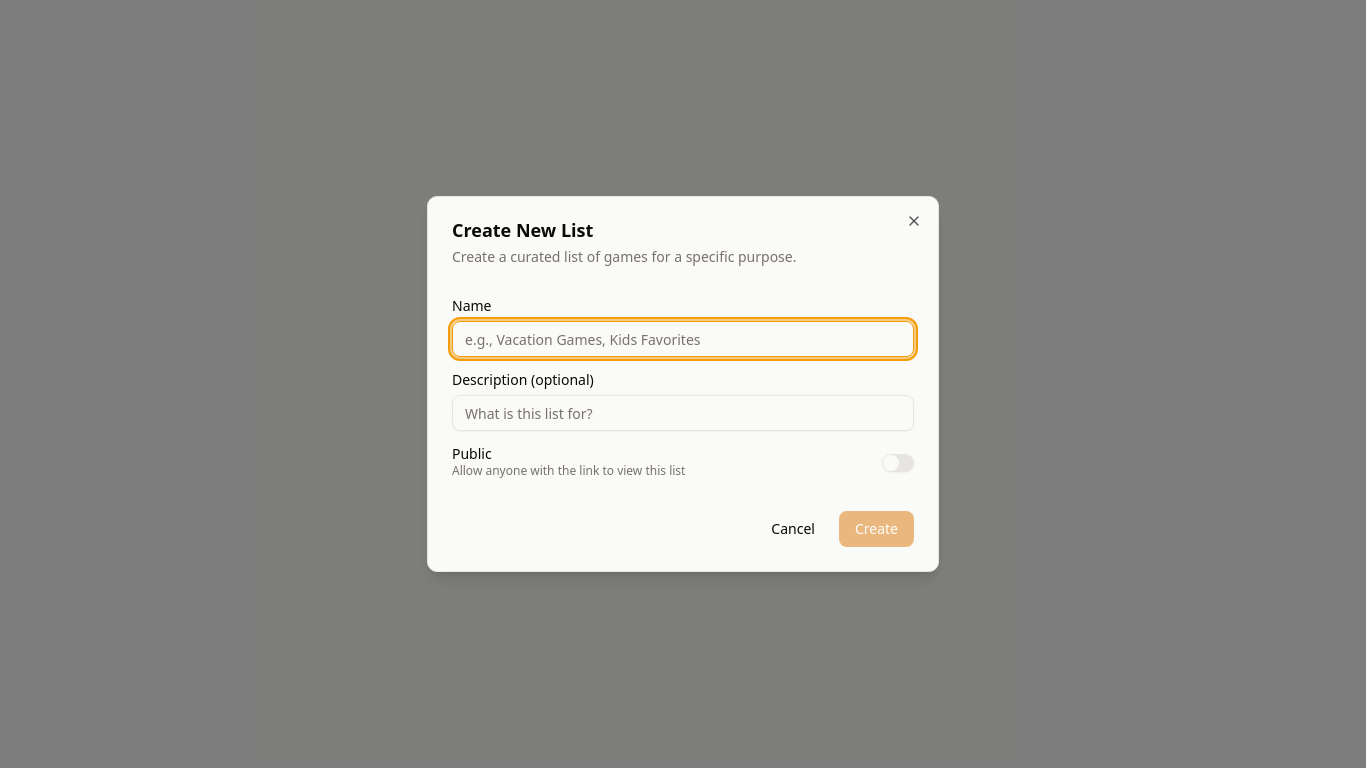
ListDialogs › CreateListDialog › should enable Create button when name is provided
Type "My List" into the field labelled "Name".
click(683, 339); type("My List")  # box [452, 321, 914, 357]
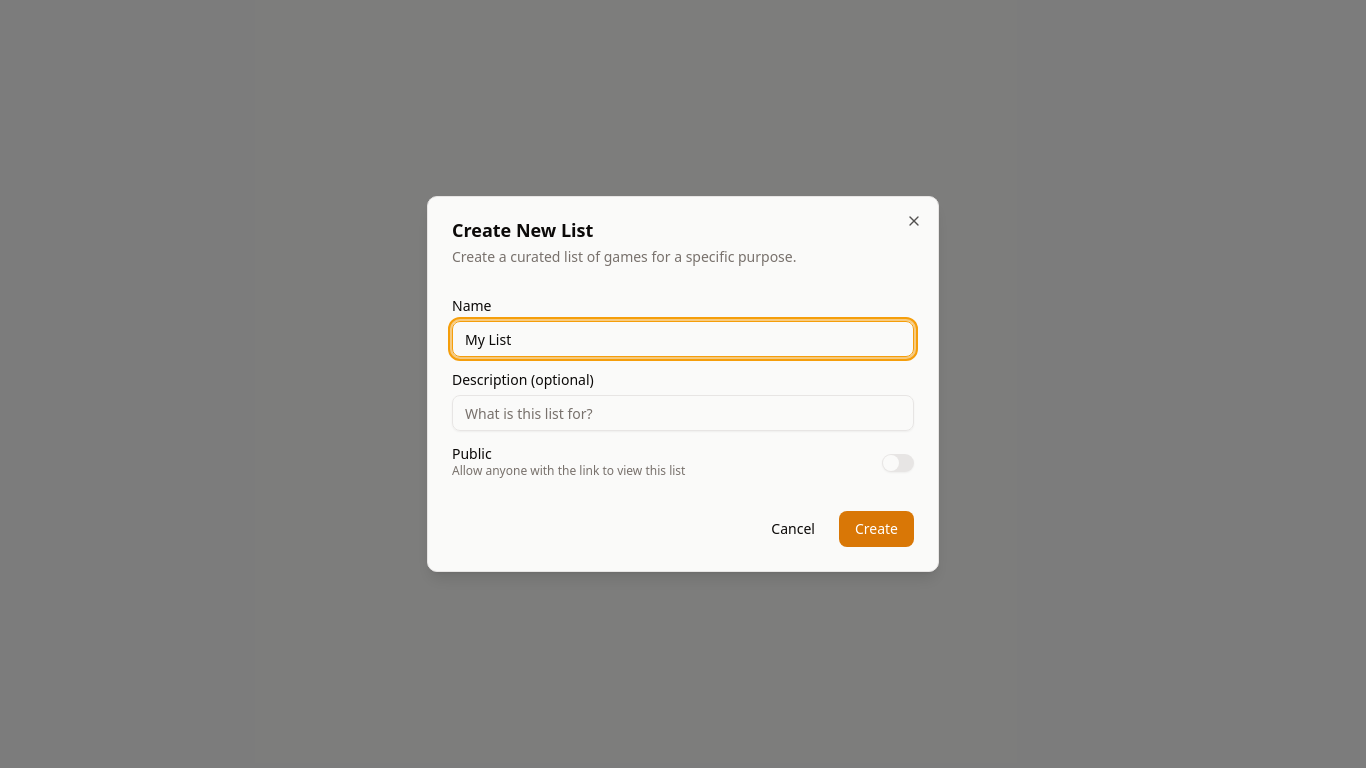
Expected: the button "Create" is enabled, [839, 511, 914, 547]
